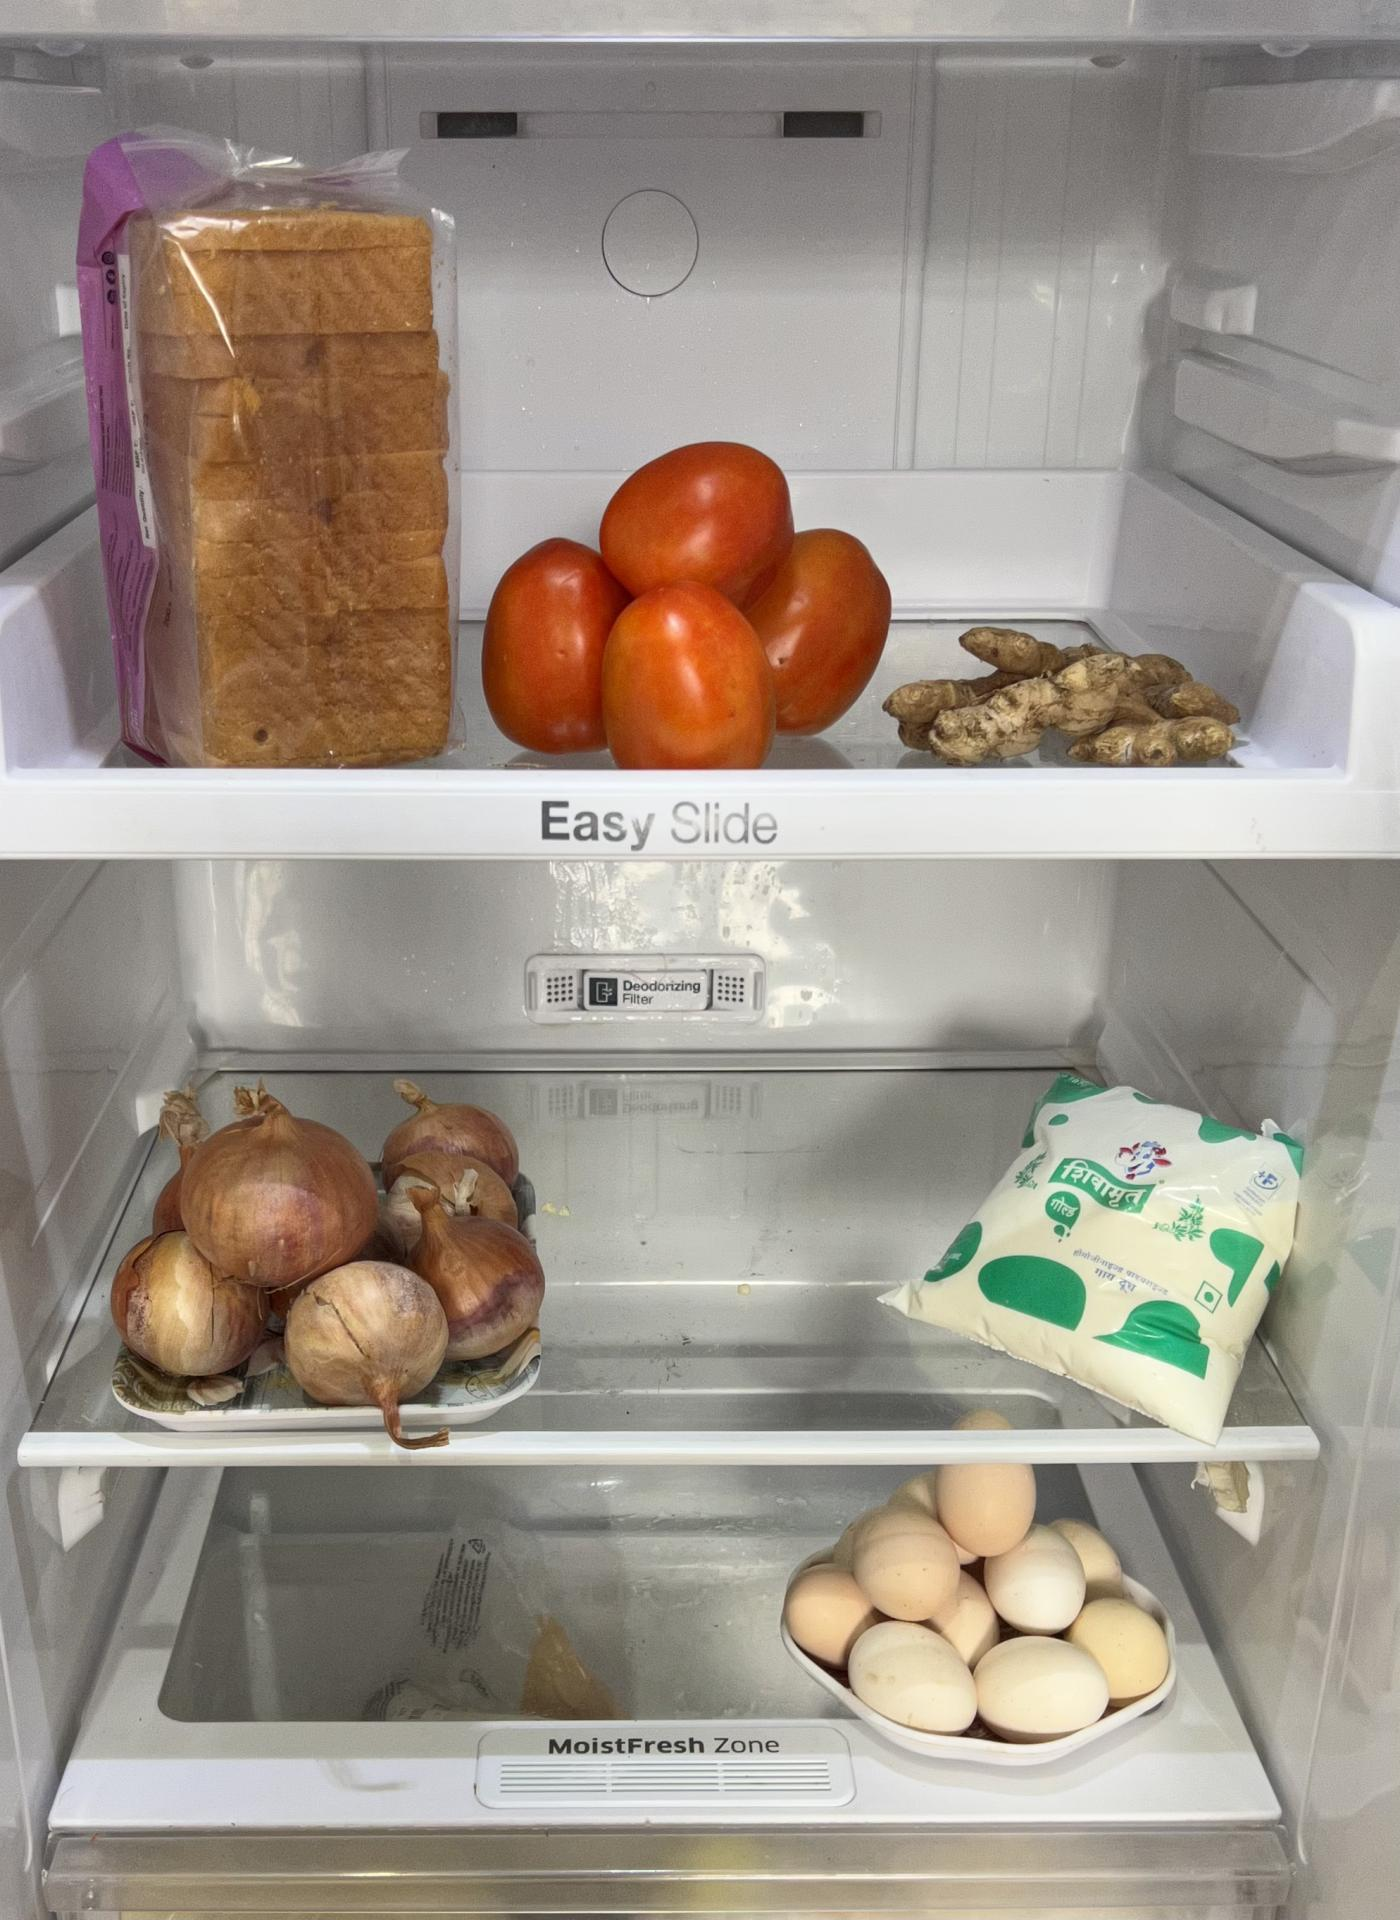bread: (54, 131, 464, 765)
egg: (783, 1471, 1190, 1735)
ginger: (892, 617, 1245, 762)
milk: (899, 1061, 1317, 1427)
onion: (107, 1073, 541, 1410)
tomato: (488, 432, 887, 771)
